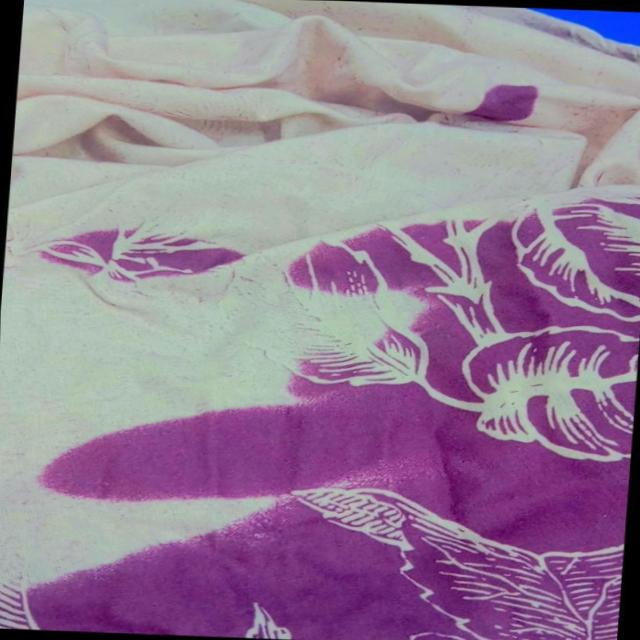baekra: (0, 2, 511, 640)
